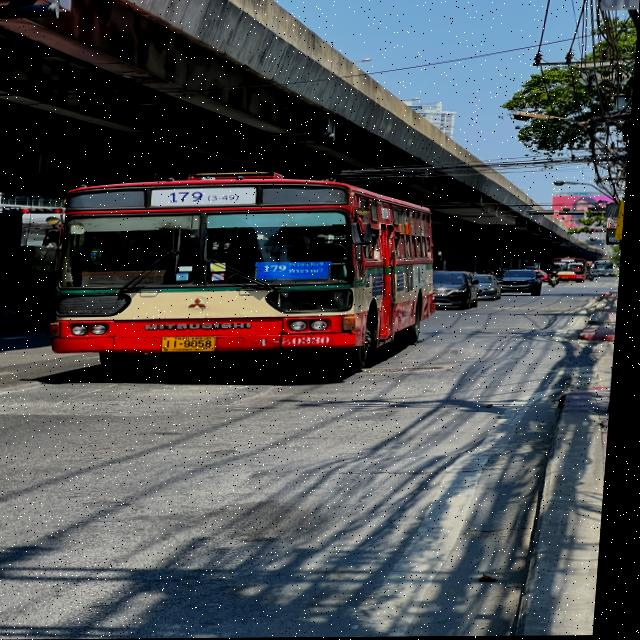BMTA-bus: (20, 167, 455, 386), (546, 253, 596, 287)
Bus Line Number: (147, 187, 262, 206)
Bus Side Number: (259, 334, 340, 349)
Destination Sign: (256, 262, 339, 280)
